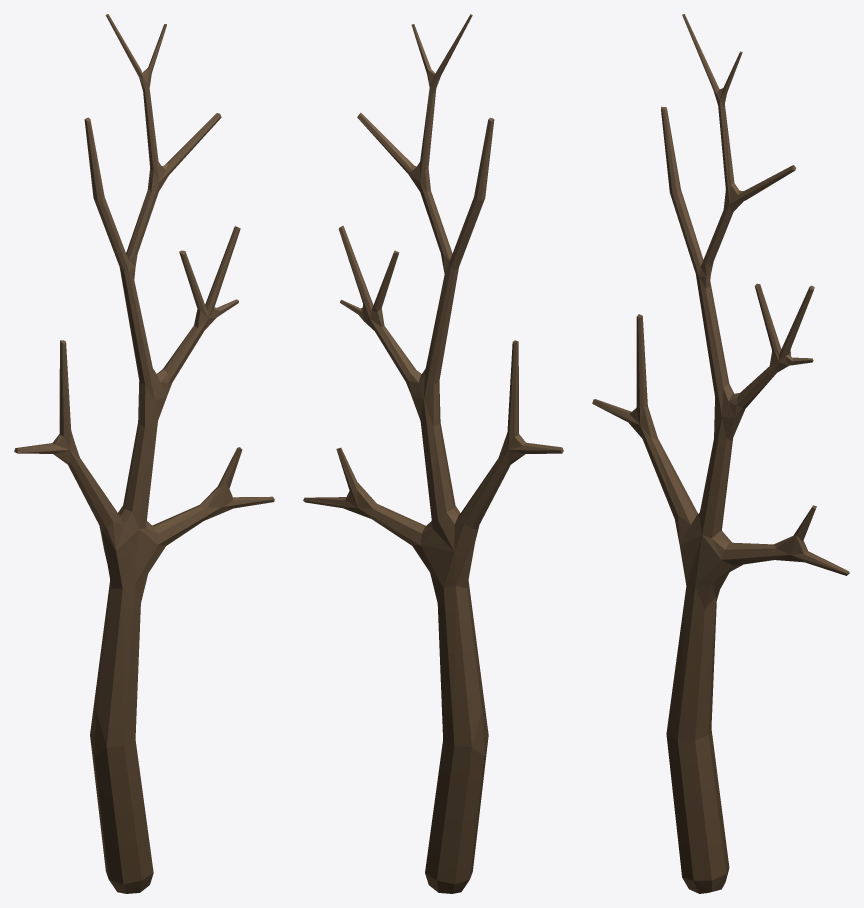
File: Branch_02.fbx
The picture shows the model from 3 angles, left to right: view 1: azimuth 30°, elevation 25°; view 2: azimuth 150°, elevation 25°; view 3: azimuth 330°, elevation 25°; orthographic projection.
Parts seen in each view (by area): view 1: Branch_02_LOD0; view 2: Branch_02_LOD0; view 3: Branch_02_LOD0.
Part boxes in pixels (bbox=[...]): Branch_02_LOD0: bbox=[14, 14, 274, 893]; Branch_02_LOD0: bbox=[303, 14, 563, 893]; Branch_02_LOD0: bbox=[592, 14, 849, 893].
Size of what is drawn, in the model's own units: 0.2649 by 0.863 by 0.0432.
